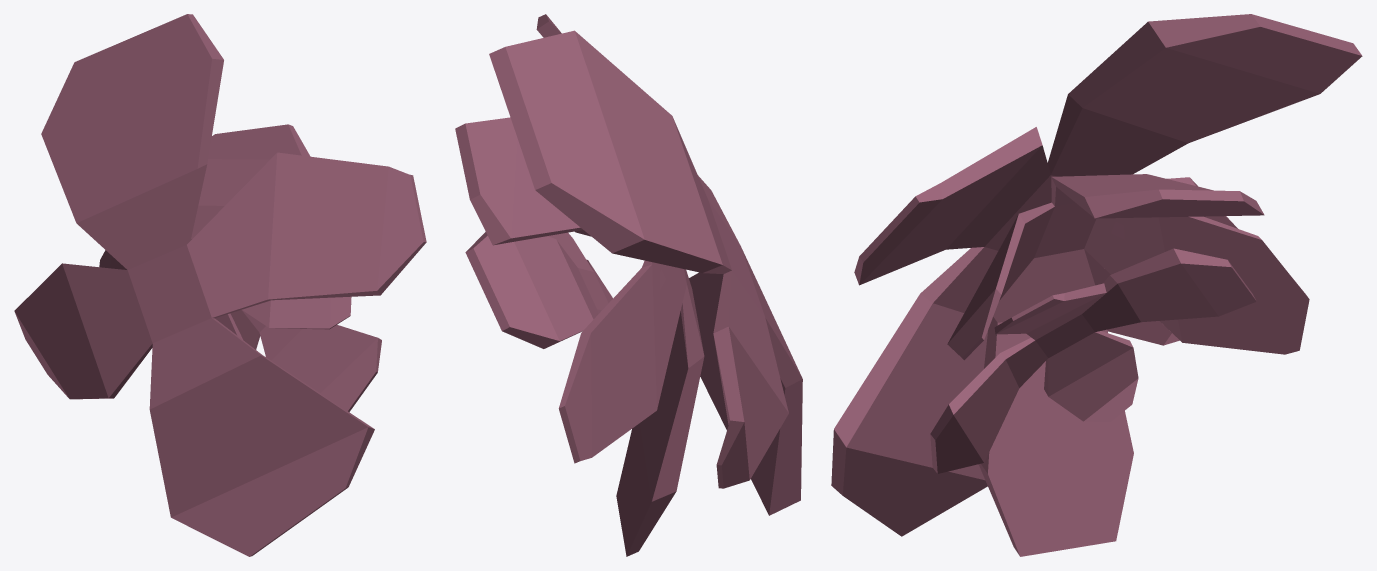
The model's file is Flower1.fbx.
The picture shows the model from 3 angles, left to right: view 1: azimuth 30°, elevation 25°; view 2: azimuth 150°, elevation 25°; view 3: azimuth 270°, elevation 25°; orthographic projection. The views are drawn at different scales.
Visible parts, largest first — view 1: Flower.001; view 2: Flower.001; view 3: Flower.001.
Part boxes in pixels (left/top/right/bottom): Flower.001: left=14, top=14, right=426, bottom=556; Flower.001: left=455, top=14, right=802, bottom=556; Flower.001: left=831, top=14, right=1362, bottom=556.
Bounding box in the file's own units: 1024 × 1204 × 822.
